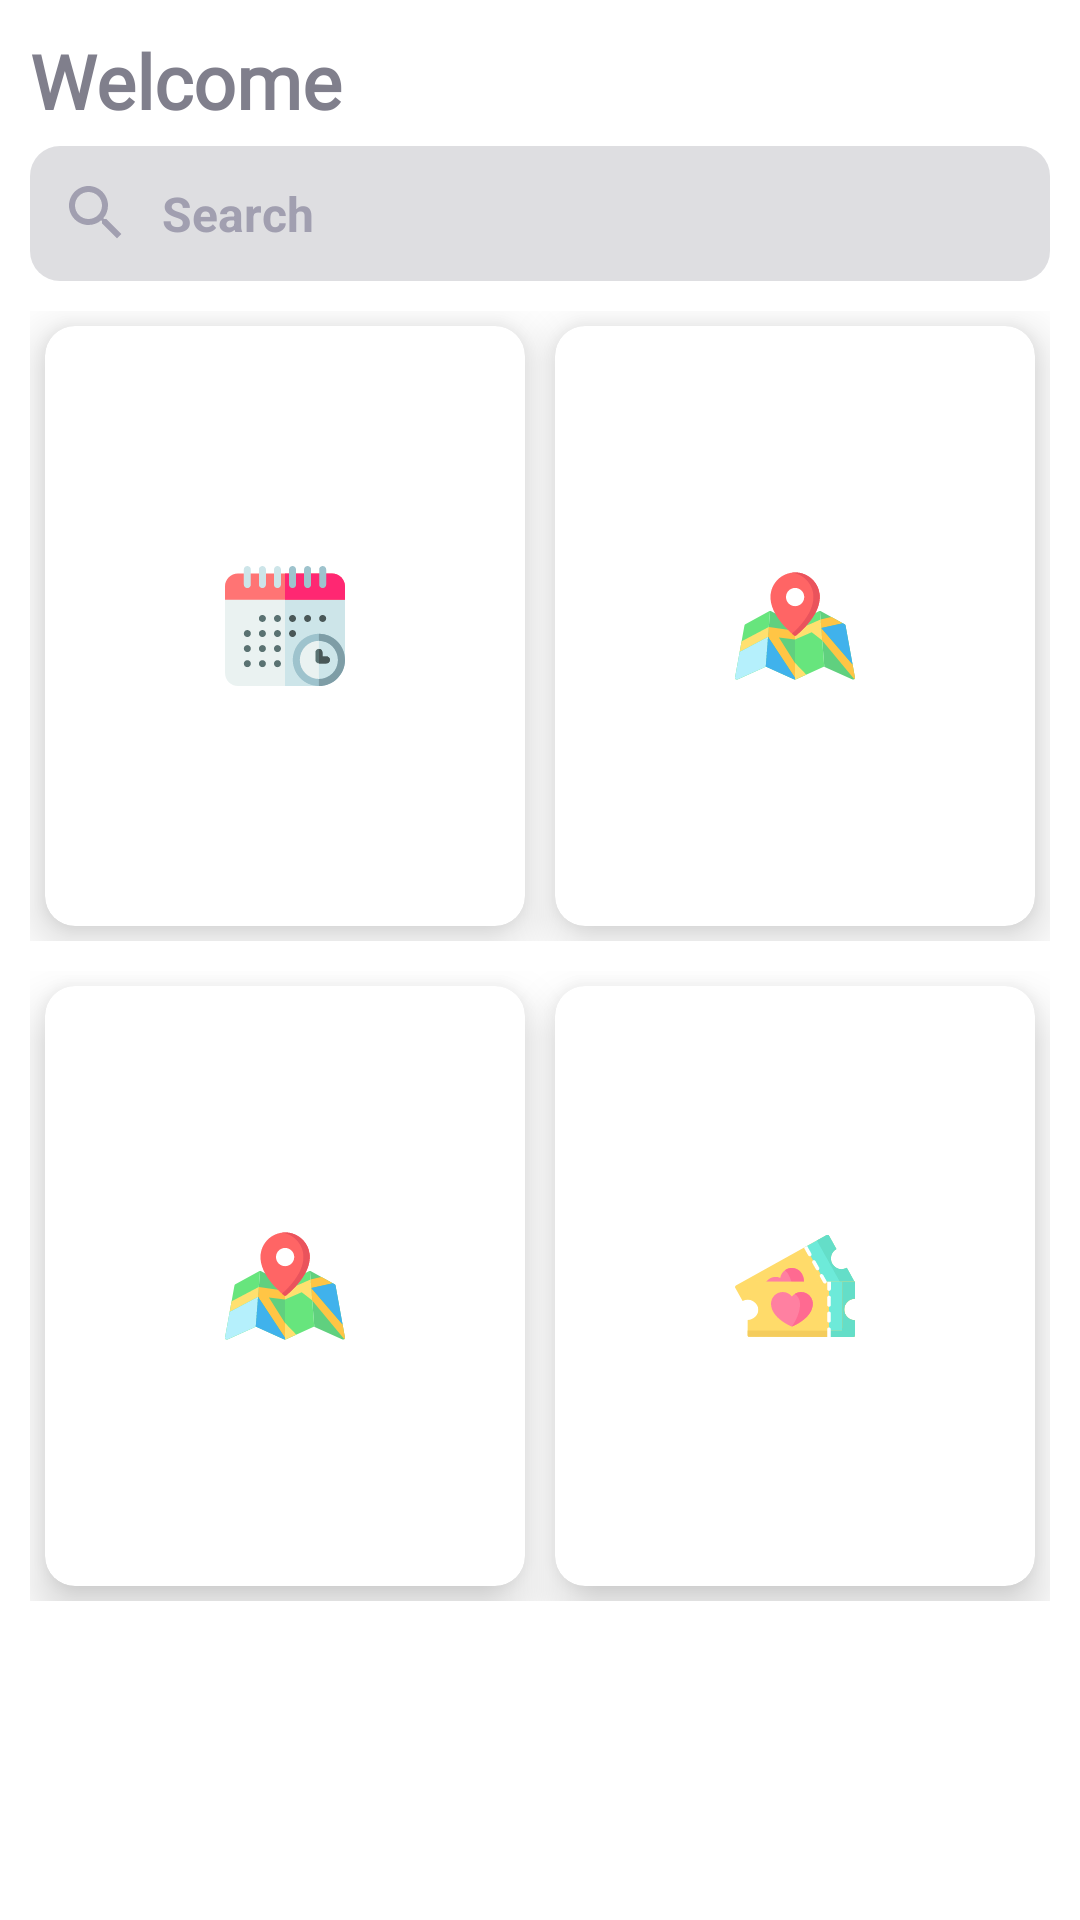

Point at icon controls on the screen. Image size 1080 x 1920, points as point (x, y).
calendar: point (285, 626)
map: point (795, 626), point (285, 1286)
ticket: point (795, 1286)
